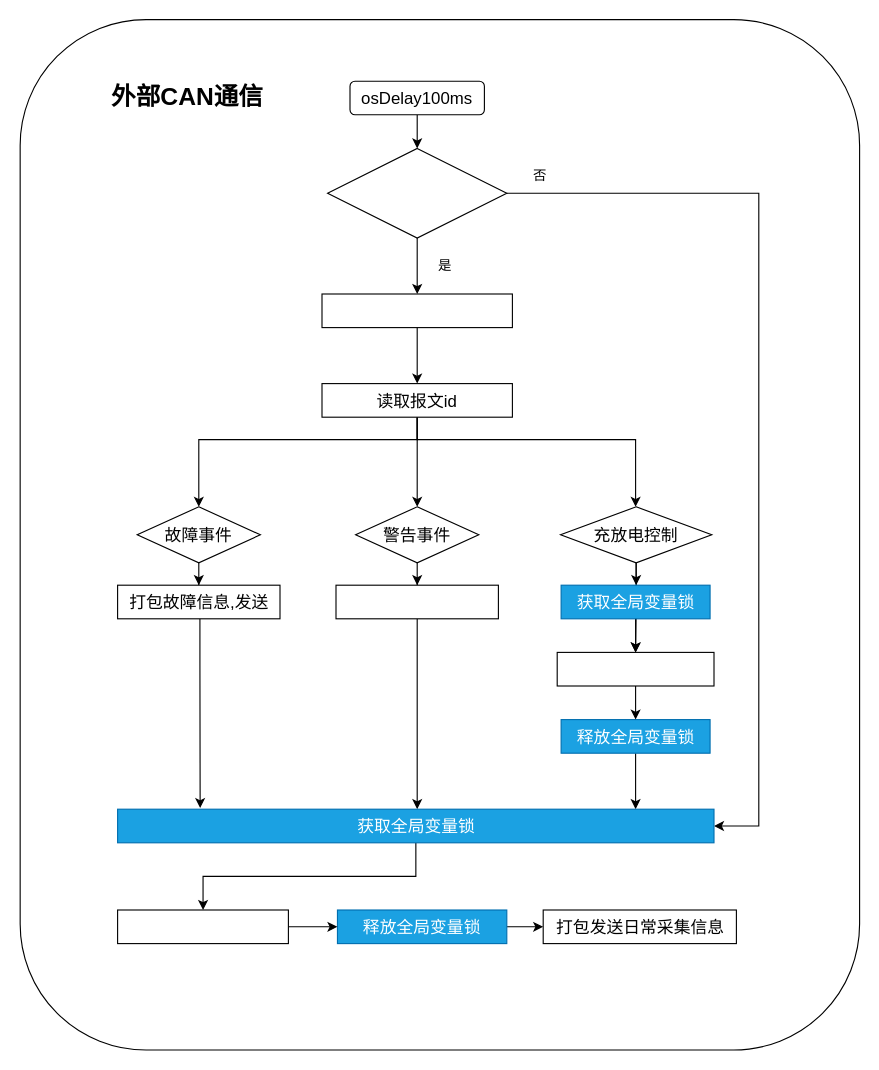
This 879x1070 diagram has some shape labels left out. The box of each missing label's shape, as (x1, y1, x2, y2) in pixels:
CANRxQueue是否有消息: (326, 147, 507, 238)
修改充放电标志位: (556, 651, 714, 686)
打包警告信息,发送: (335, 584, 498, 619)
读取电压电流电量: (116, 909, 288, 944)
读取队列: (321, 293, 512, 328)
